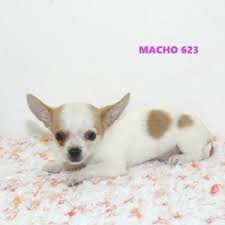chihuahua: (18, 69, 223, 185)
